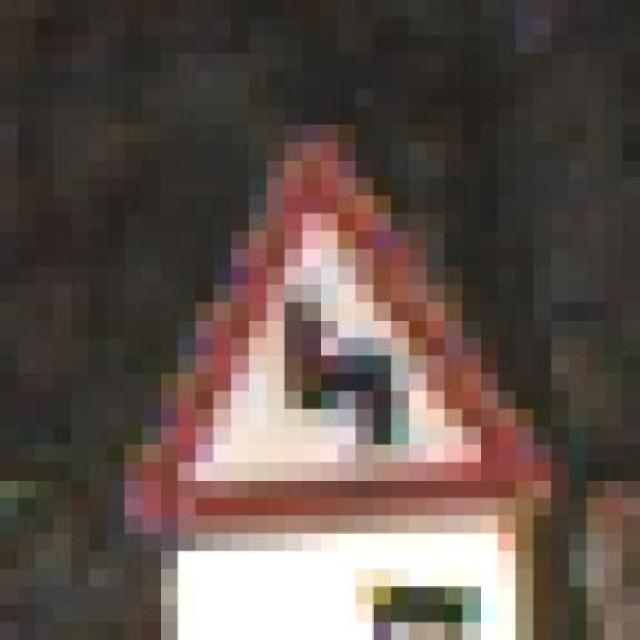Left Zig Zag Traffic: (124, 106, 587, 569)
